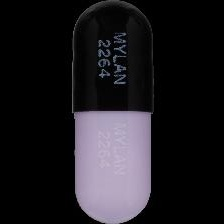0378-2264: (0, 0, 224, 224)
